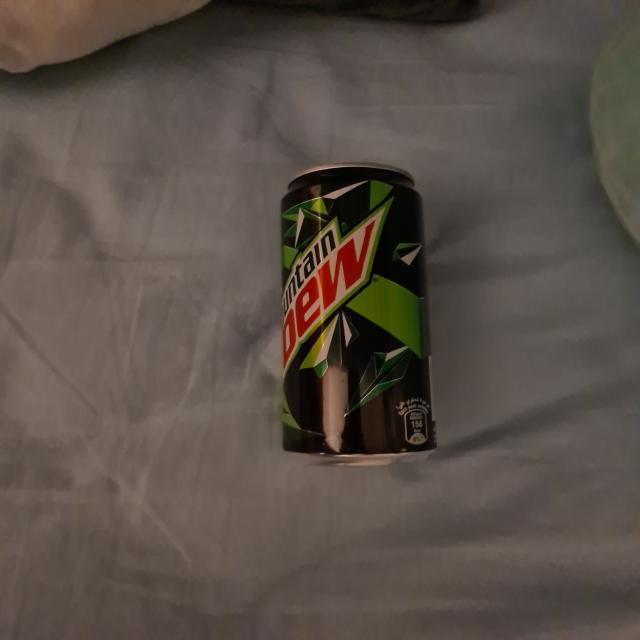non-organic waste: (265, 161, 449, 470)
